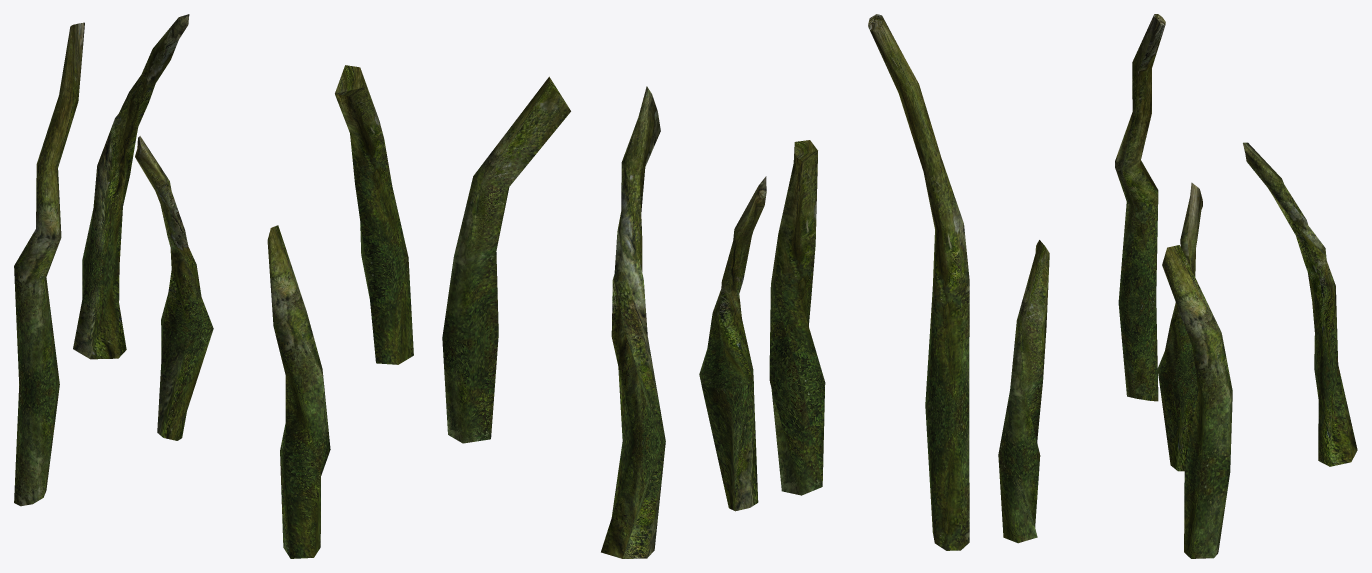
File: prayer_tree_roof_00.fbx
The picture shows the model from 3 angles, left to right: view 1: azimuth 30°, elevation 25°; view 2: azimuth 150°, elevation 25°; view 3: azimuth 270°, elevation 25°; orthographic projection. The views are drawn at different scales.
Parts seen in each view (by area): view 1: prayer_tree_roof_00; view 2: prayer_tree_roof_00; view 3: prayer_tree_roof_00.
Part boxes in pixels (box(x1,y1,x2,y2)): prayer_tree_roof_00: box(14, 14, 413, 558); prayer_tree_roof_00: box(442, 14, 969, 558); prayer_tree_roof_00: box(998, 14, 1357, 558).
Size of the model in its own units: 26.59 by 30.5 by 21.72.
